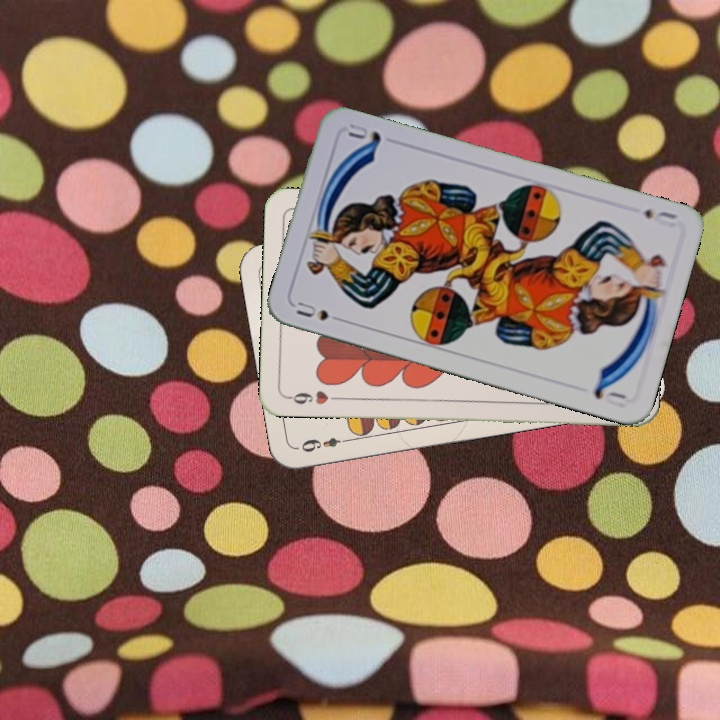E9: (297, 433, 353, 455)
H9: (284, 387, 343, 407)
SU: (292, 297, 349, 326), (640, 205, 680, 230)
